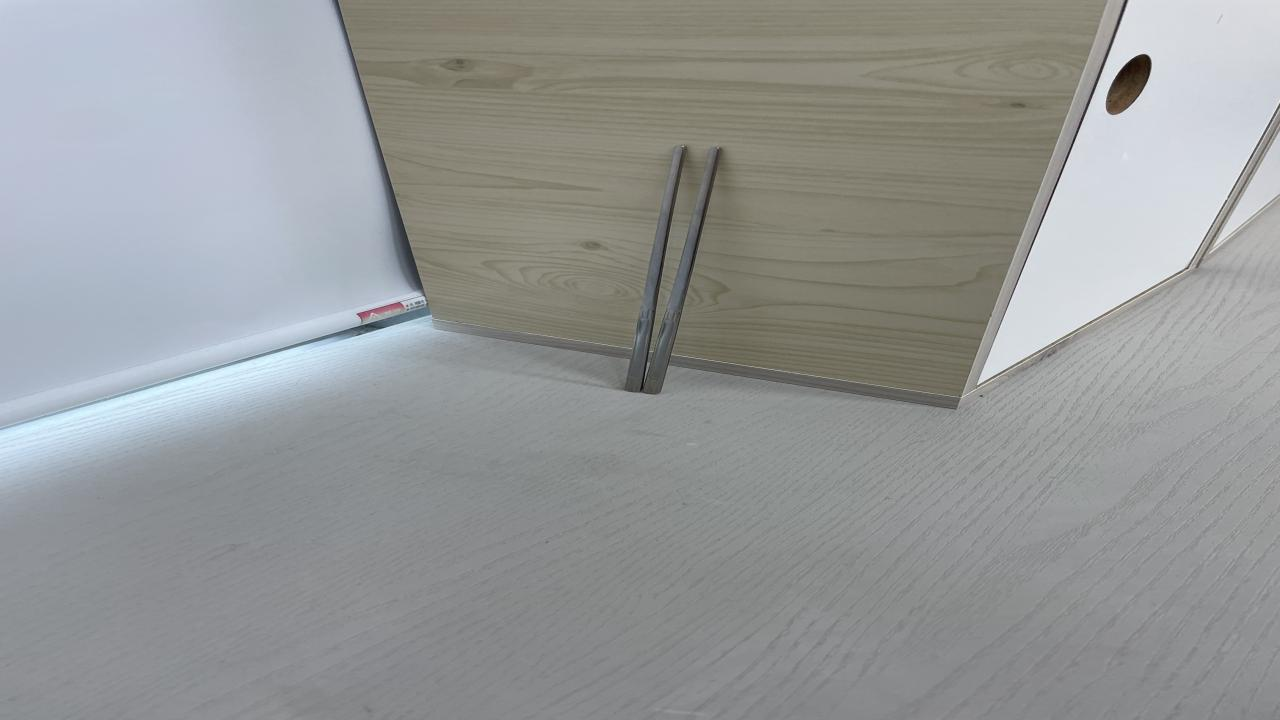chopstick: (620, 146, 727, 395)
